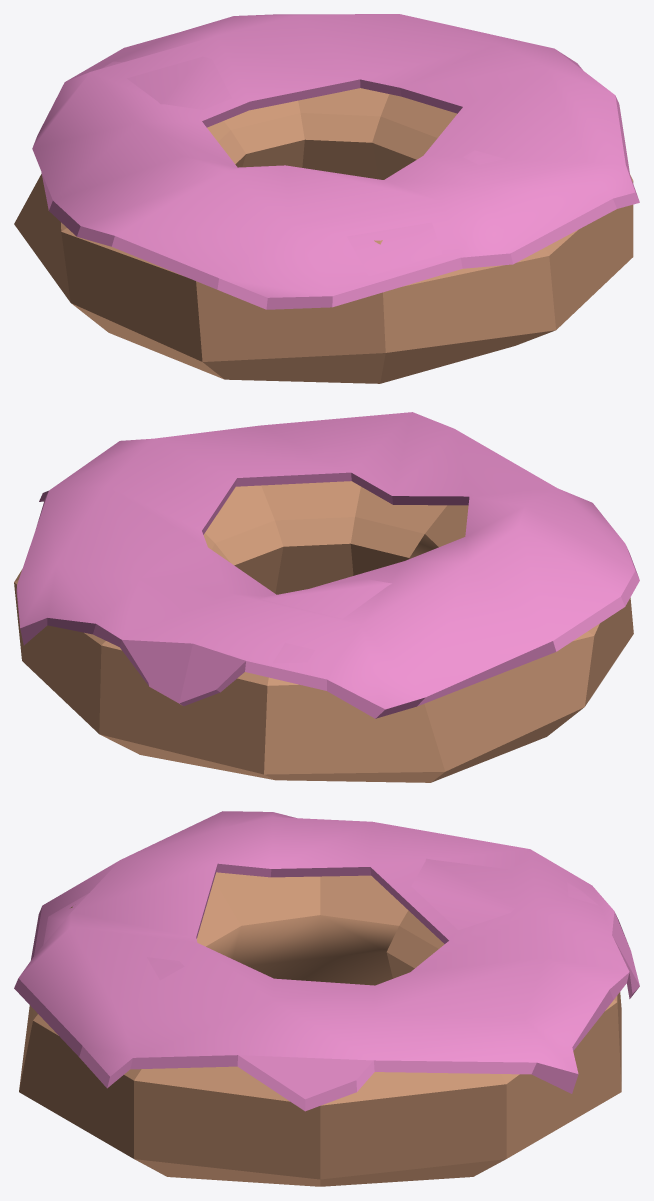
Rendered from power up 2.fbx.
The picture shows the model from 3 angles, top to bottom: view 1: azimuth 30°, elevation 25°; view 2: azimuth 150°, elevation 25°; view 3: azimuth 270°, elevation 25°; orthographic projection. The views are drawn at different scales.
Visible parts, largest first — view 1: pTorus5; view 2: pTorus5; view 3: pTorus5.
Part boxes in pixels (x1,y1,x2,y2): pTorus5: (14, 14, 639, 383); pTorus5: (14, 412, 639, 782); pTorus5: (14, 811, 639, 1186).
Bounding box in the file's own units: 0.4791 × 0.1533 × 0.4595.
